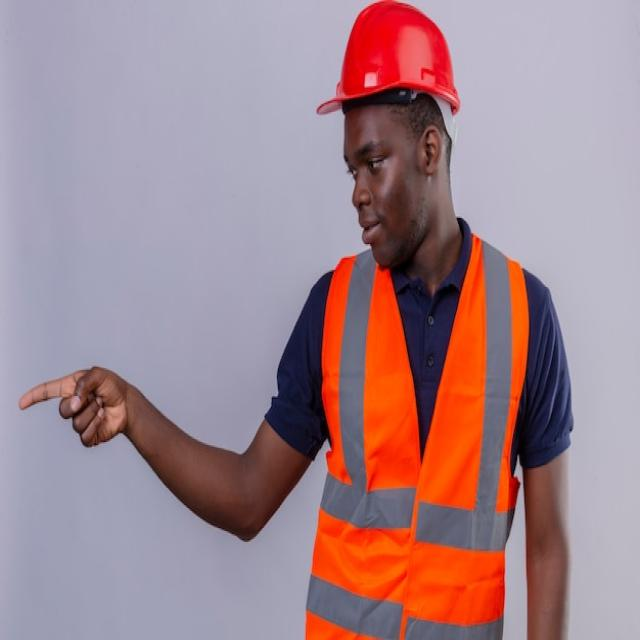helmet: (309, 0, 467, 138)
vest: (304, 234, 514, 640)
